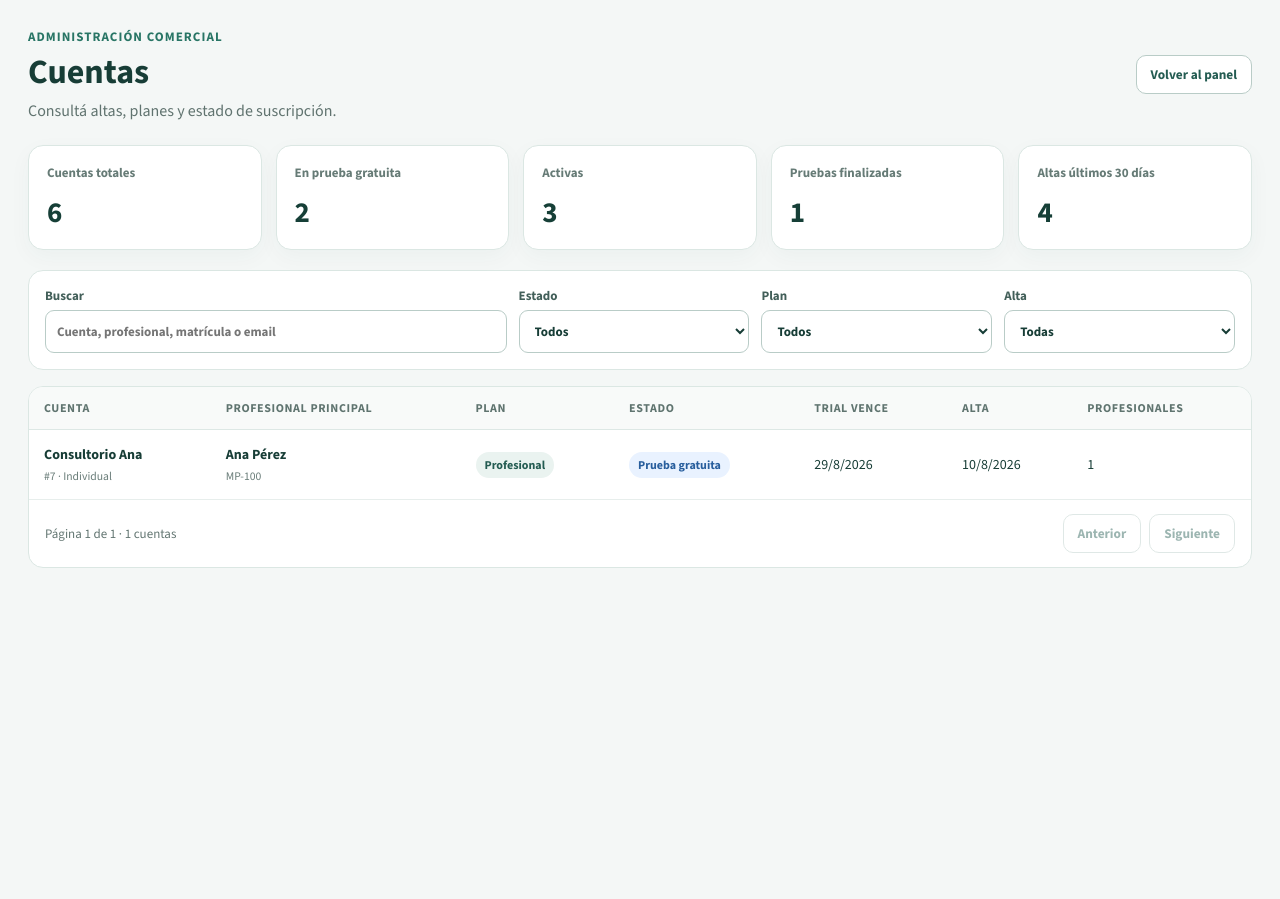
panel administrativo de cuentas › muestra acciones válidas para trial y oculta las inválidas
This screenshot has width=1280, height=899.
What coordinates should you click on to do the following:
click the button "Consultorio Ana"
I would click on:
 (93, 454)
Its box is [44,445,142,464].
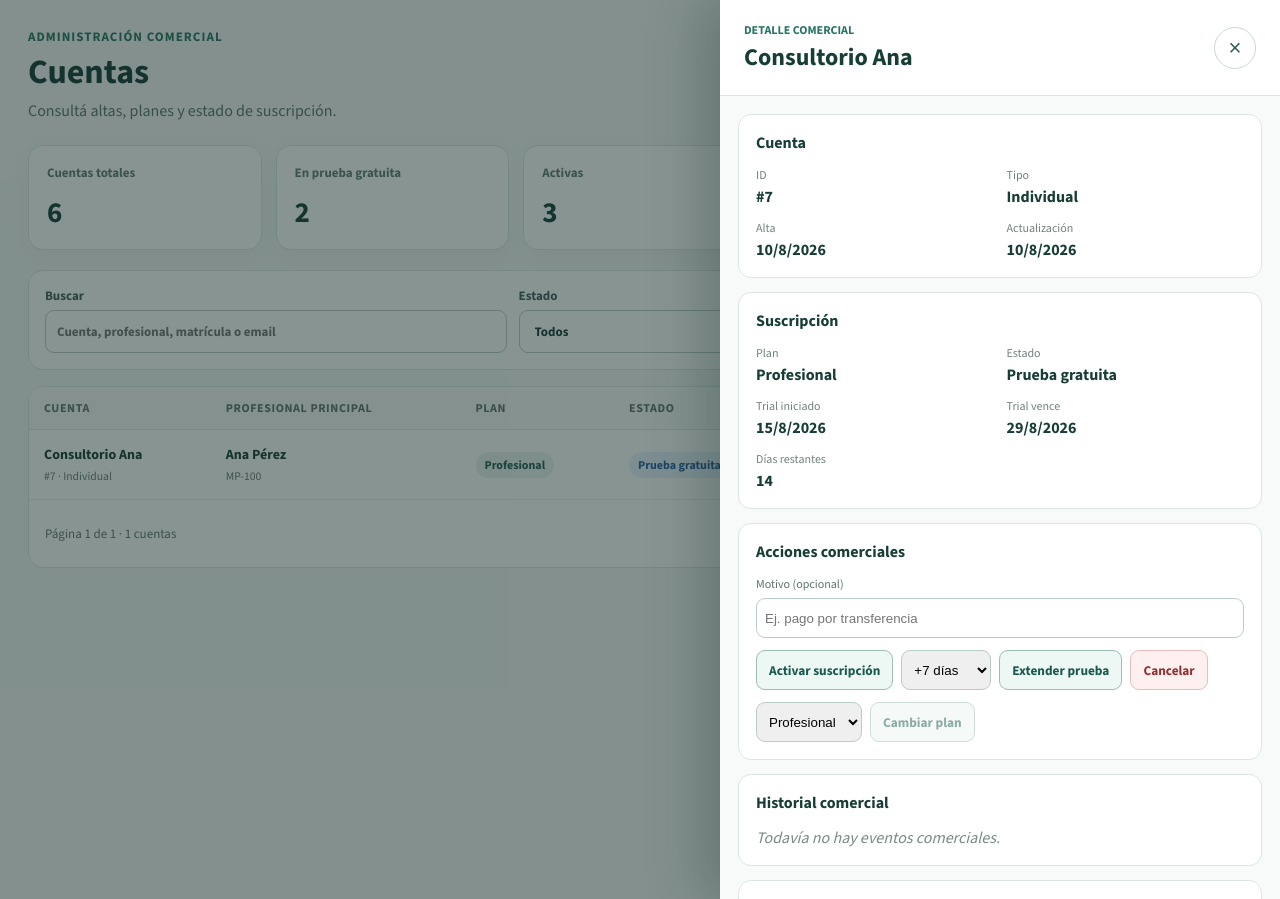
expect the button "Activar suscripción" is shown: met, box [756,650,893,690]
expect the button "Extender prueba" is shown: met, box [999,650,1122,690]
